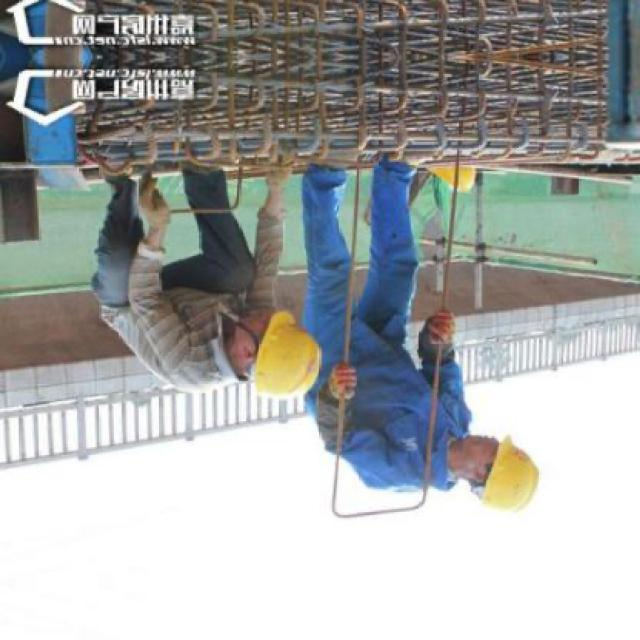con casco: (170, 285, 340, 394), (423, 398, 566, 518)
